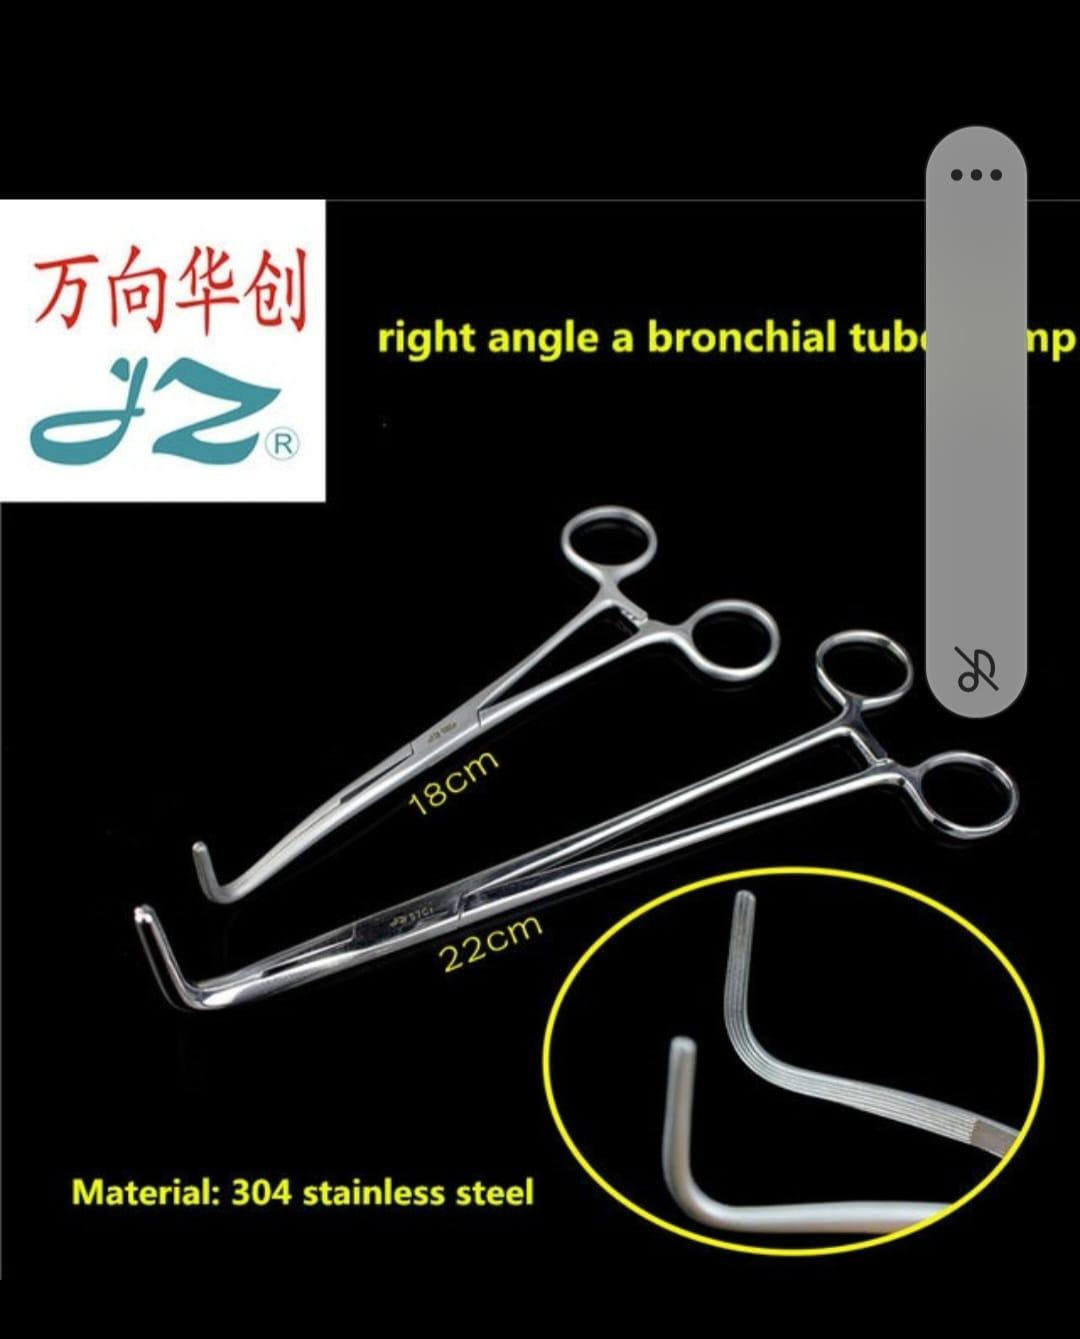Rectangle Cholecystectomy Forceps: (126, 630, 1032, 1026), (188, 486, 780, 924)
